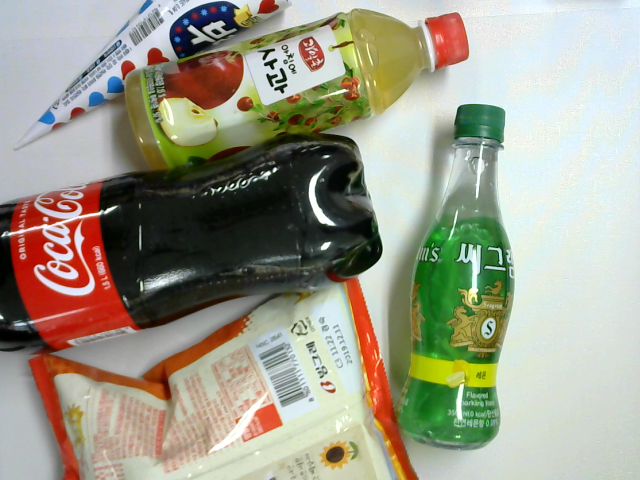Bravo_Cone_(Banila)_CVS: (5, 1, 298, 161)
Coca_Cola_1.5L: (1, 126, 388, 362)
Crabrang: (19, 257, 428, 480)
Morning_Apple_500ml: (122, 6, 475, 181)
Seagram_Lemon_Carbonated_Water: (392, 98, 521, 459)
